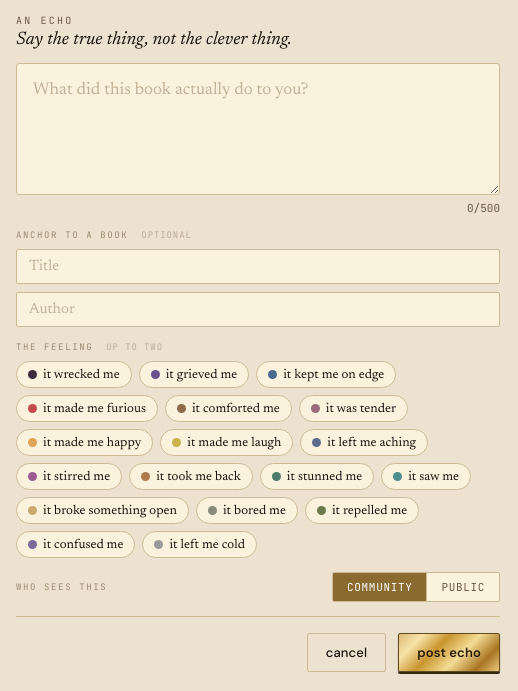
Test case: EchoComposer [F3.2 / B3.2] › shows a calm held-for-review state (not a rejection)
The width and height of the screenshot is (518, 691).
Type "x" into the text box named "your reflection" at (258, 129), box [16,63,500,195]
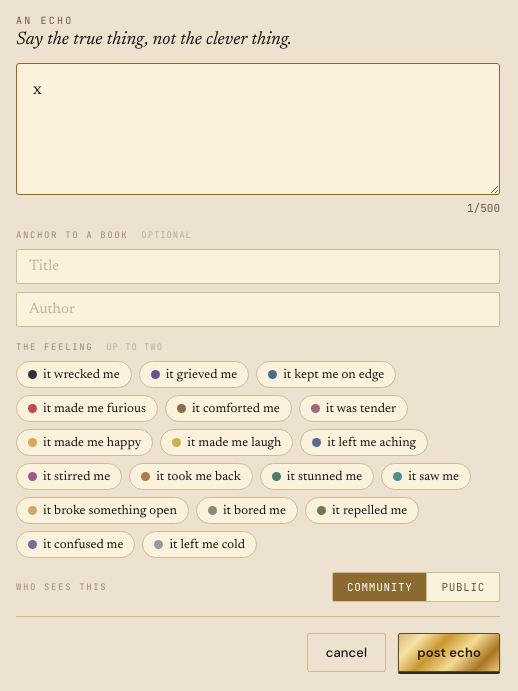
Click the button "post echo" at (449, 652), box [398,633,500,672]
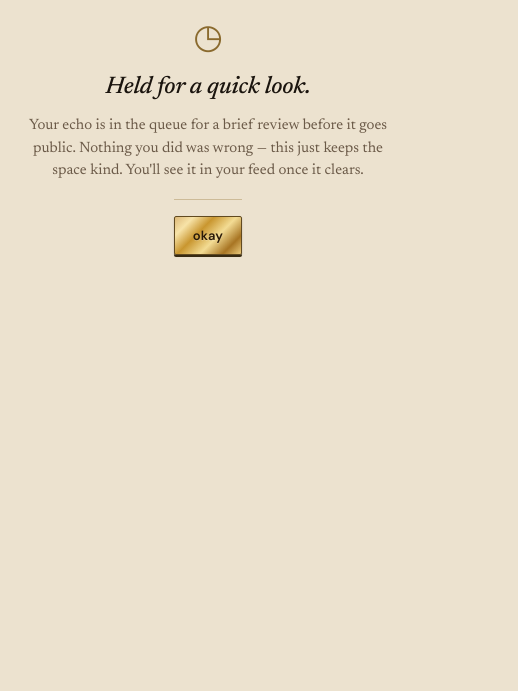
Result: the heading "Held for a quick look." is shown at [106,75,310,99]
